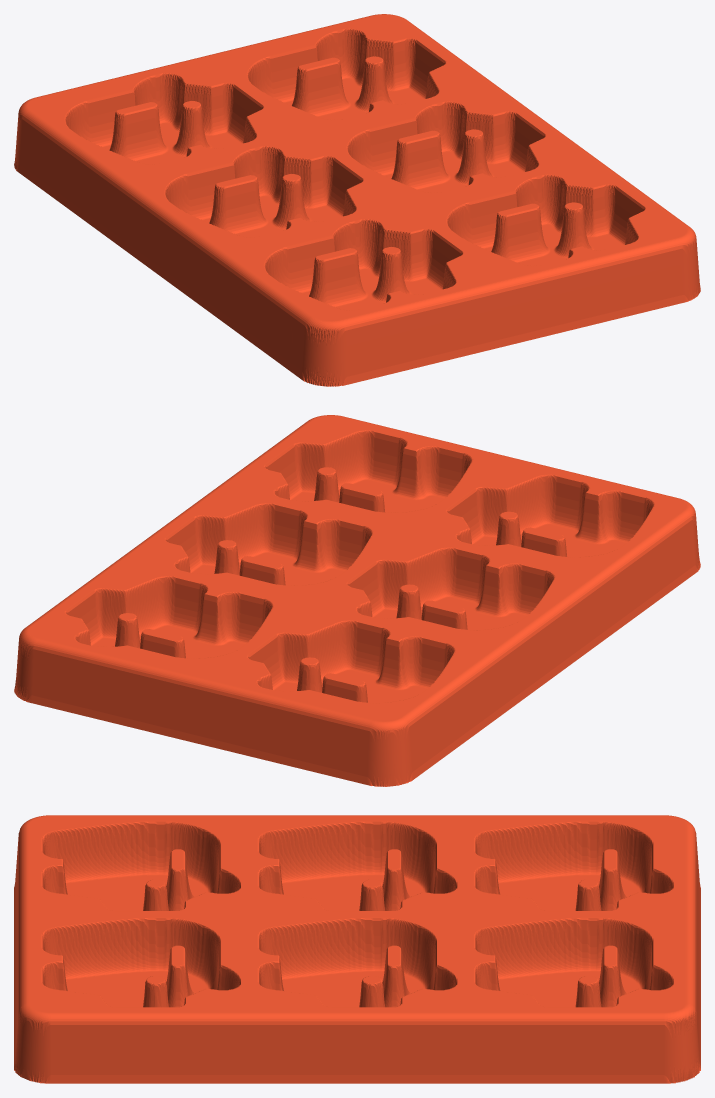
Rendered from mold.glb.
3 renders of one model, top to bottom at view 1: azimuth 30°, elevation 25°; view 2: azimuth 150°, elevation 25°; view 3: azimuth 270°, elevation 25°, orthographic. The views are drawn at different scales.
Visible parts, largest first — view 1: geometry_0; view 2: geometry_0; view 3: geometry_0.
Part boxes in pixels (x1,y1,x2,y2): geometry_0: (14,14,700,386); geometry_0: (14,415,700,786); geometry_0: (14,815,700,1083).
Bounding box in the file's own units: 0.1211 × 0.0175 × 0.1682.
